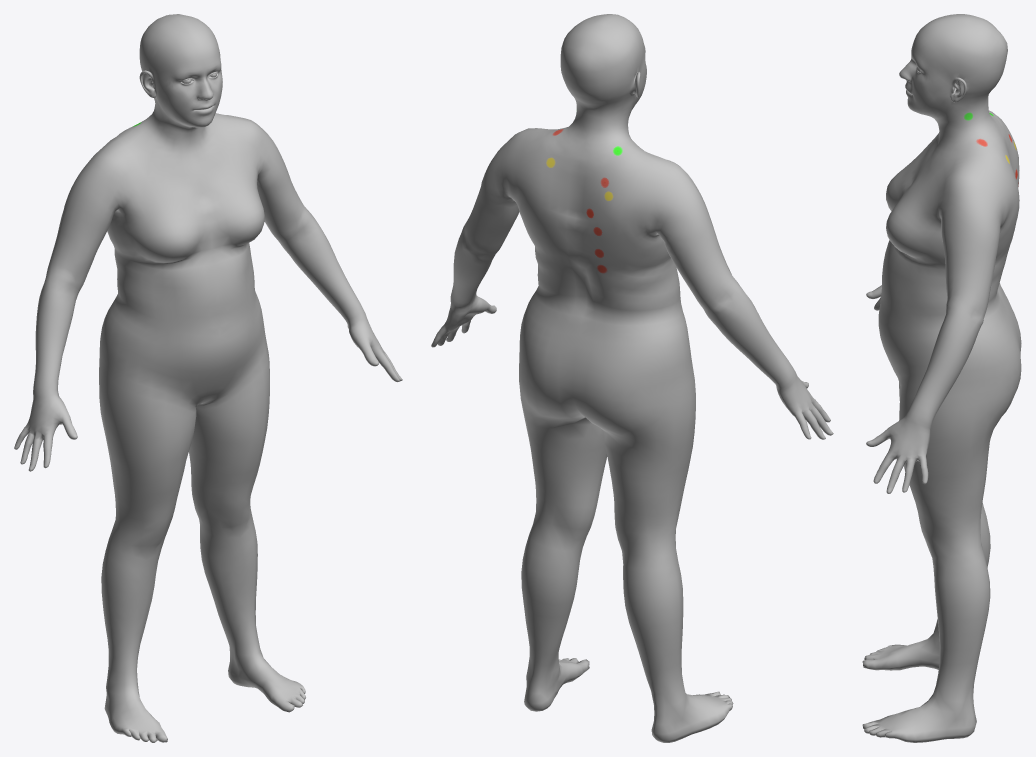
Rendered from 50707771-pain_points.gltf.
3 renders of one model, left to right at view 1: azimuth 30°, elevation 25°; view 2: azimuth 150°, elevation 25°; view 3: azimuth 270°, elevation 25°, orthographic. The views are drawn at different scales.
Visible parts, largest first — view 1: Female 62in 150lbs; view 2: Female 62in 150lbs; view 3: Female 62in 150lbs.
Boxes of the visible parts, <box> form: Female 62in 150lbs: <box>14,14,402,742</box>; Female 62in 150lbs: <box>431,14,833,742</box>; Female 62in 150lbs: <box>862,14,1021,742</box>.
Bounding box in the file's own units: 2.73 × 4.73 × 0.9921.
Materials: 1 (1 with a texture image).
